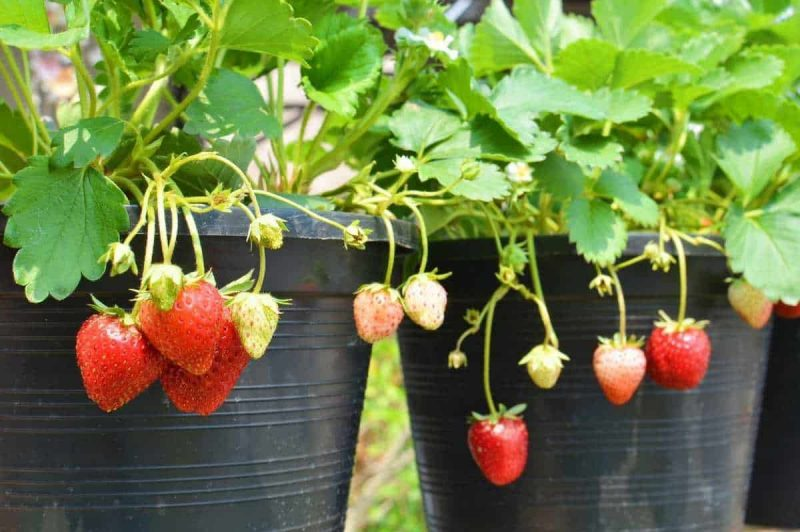green_strawberry: (232, 294, 279, 362), (351, 286, 401, 342), (725, 280, 773, 333), (401, 273, 446, 329), (520, 344, 567, 388), (147, 267, 184, 310), (248, 213, 287, 249)
red_strawberry: (133, 289, 229, 373), (78, 313, 157, 409), (165, 335, 244, 417), (470, 411, 533, 483), (646, 324, 707, 389), (590, 340, 650, 405)
